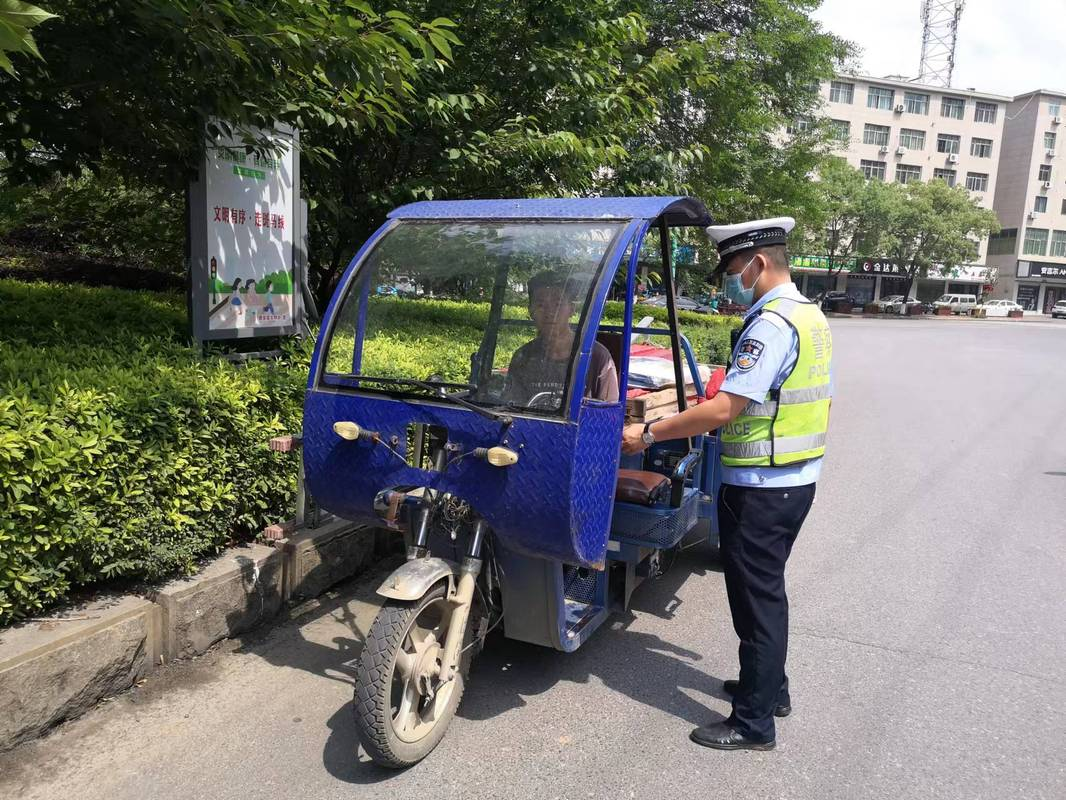driver: (432, 234, 650, 562)
only_driver: (214, 88, 742, 762)
